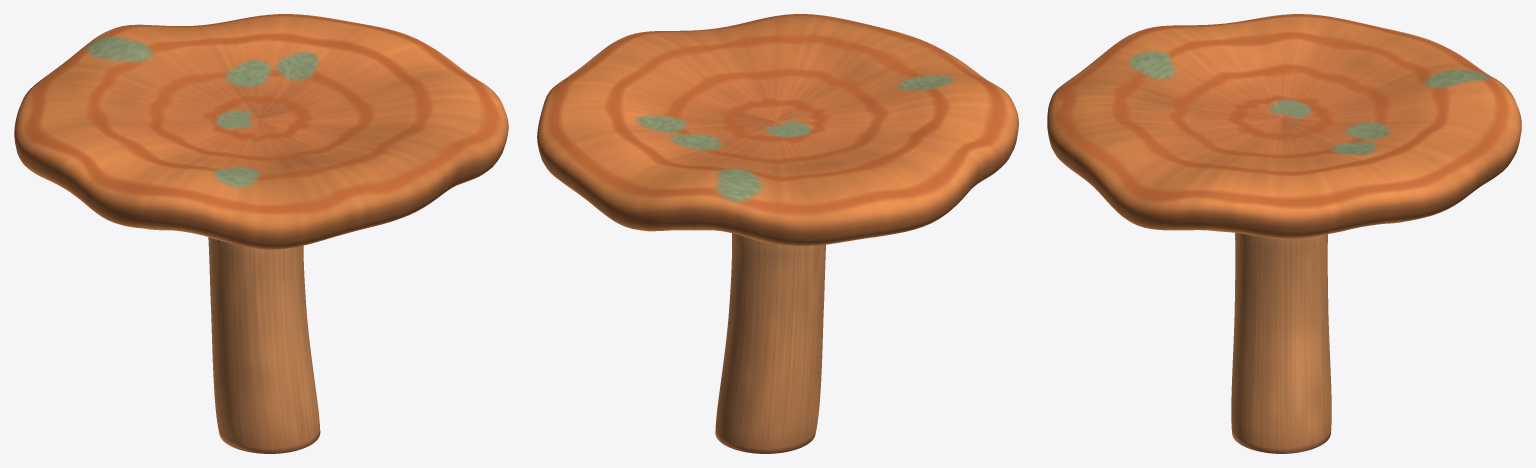
The model's file is lactarius-deliciosus-agg-drawn.glb.
3 views of the same model, side by side, from view 1: azimuth 30°, elevation 25°; view 2: azimuth 150°, elevation 25°; view 3: azimuth 270°, elevation 25° (orthographic). The views are drawn at different scales.
Size of the model in its own units: 0.8371 by 0.6602 by 0.8518.
1 material, 1 textured.
